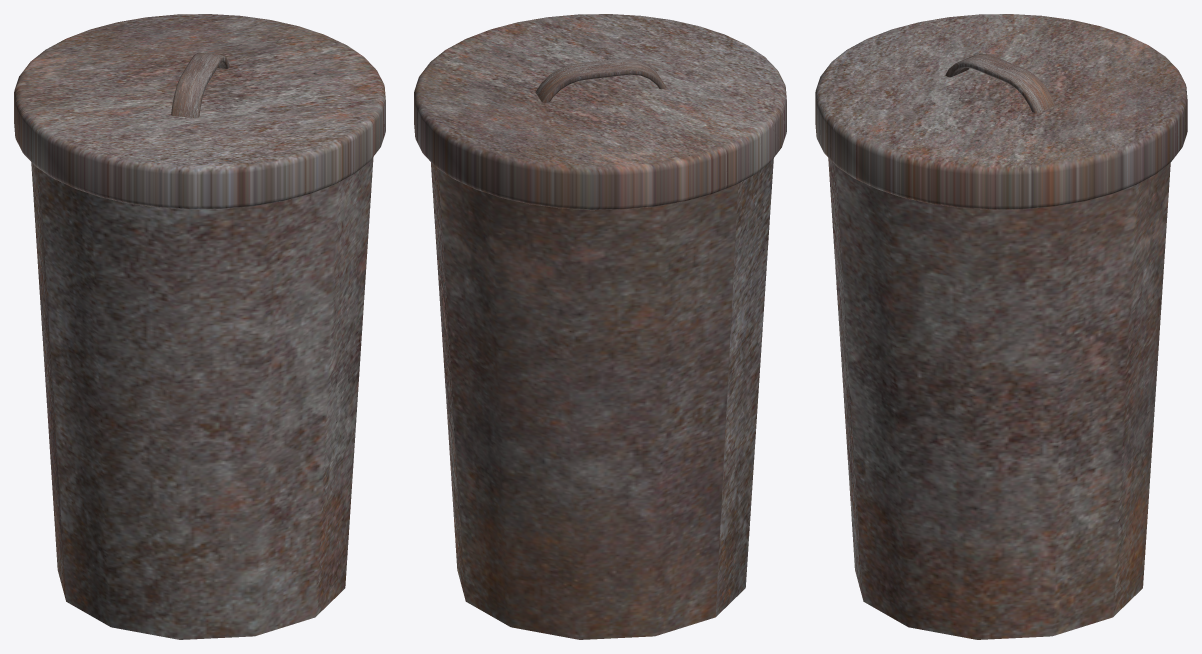
The model's file is BIN.FBX.
3 views of the same model, side by side, from view 1: azimuth 30°, elevation 25°; view 2: azimuth 150°, elevation 25°; view 3: azimuth 270°, elevation 25° (orthographic).
Parts seen in each view (by area): view 1: Tube03, ChamferCyl03, ChamferBox09; view 2: Tube03, ChamferCyl03, ChamferBox09; view 3: Tube03, ChamferCyl03, ChamferBox09.
Boxes of the visible parts, bbox=[...] form: Tube03: bbox=[31, 157, 373, 639]; ChamferCyl03: bbox=[14, 14, 385, 209]; ChamferBox09: bbox=[171, 52, 229, 118]; Tube03: bbox=[431, 158, 773, 639]; ChamferCyl03: bbox=[414, 14, 786, 210]; ChamferBox09: bbox=[535, 58, 666, 102]; Tube03: bbox=[828, 158, 1170, 639]; ChamferCyl03: bbox=[815, 14, 1187, 209]; ChamferBox09: bbox=[945, 53, 1055, 113].
Bounding box in the file's own units: 2.18 × 3.31 × 2.18.
1 material, 1 textured.
